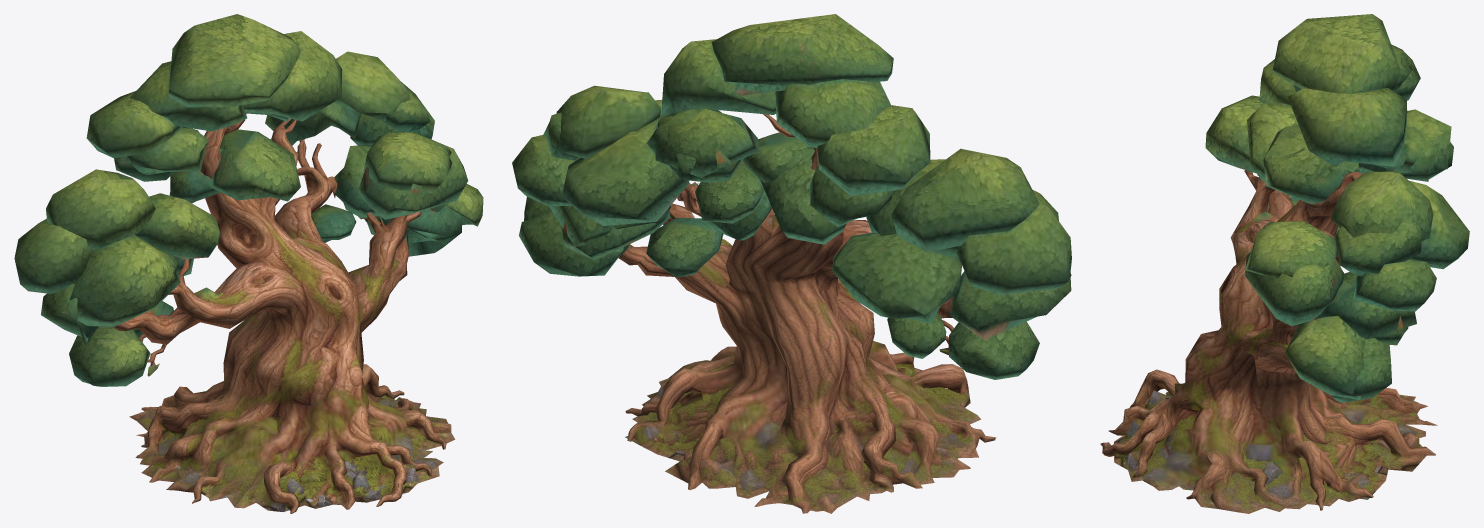
File: hero_tree.glb
3 renders of one model, left to right at view 1: azimuth 30°, elevation 25°; view 2: azimuth 150°, elevation 25°; view 3: azimuth 270°, elevation 25°, orthographic. The views are drawn at different scales.
Parts seen in each view (by area): view 1: Canopy, hero_tree; view 2: Canopy, hero_tree; view 3: Canopy, hero_tree.
Boxes of the visible parts, x1,y1,x2,y2 form: Canopy: (14,14,483,386); hero_tree: (113,112,455,513); Canopy: (512,14,1071,379); hero_tree: (618,114,996,513); Canopy: (1205,14,1469,402); hero_tree: (1100,170,1437,513).
Size of the model in its own units: 4.2 by 3.4 by 2.8.
Materials: 1 (1 with a texture image).
